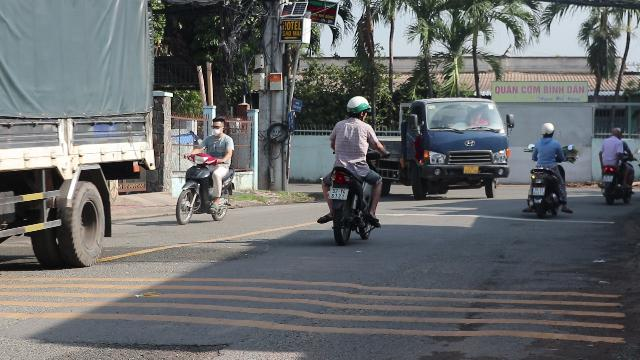helmet: (345, 96, 371, 120)
licenseplate: (328, 188, 348, 199)
motorcyclist: (316, 95, 386, 243), (174, 114, 236, 224)
nohelmet: (209, 115, 225, 136)
